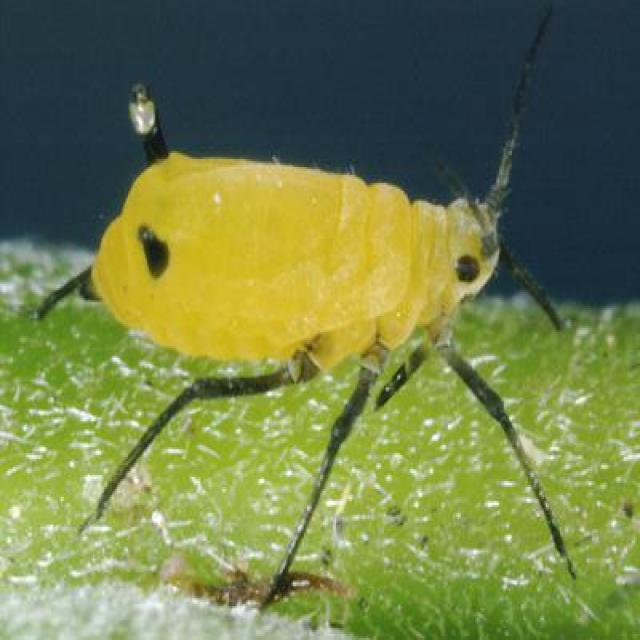Aphids: (52, 71, 595, 593)
